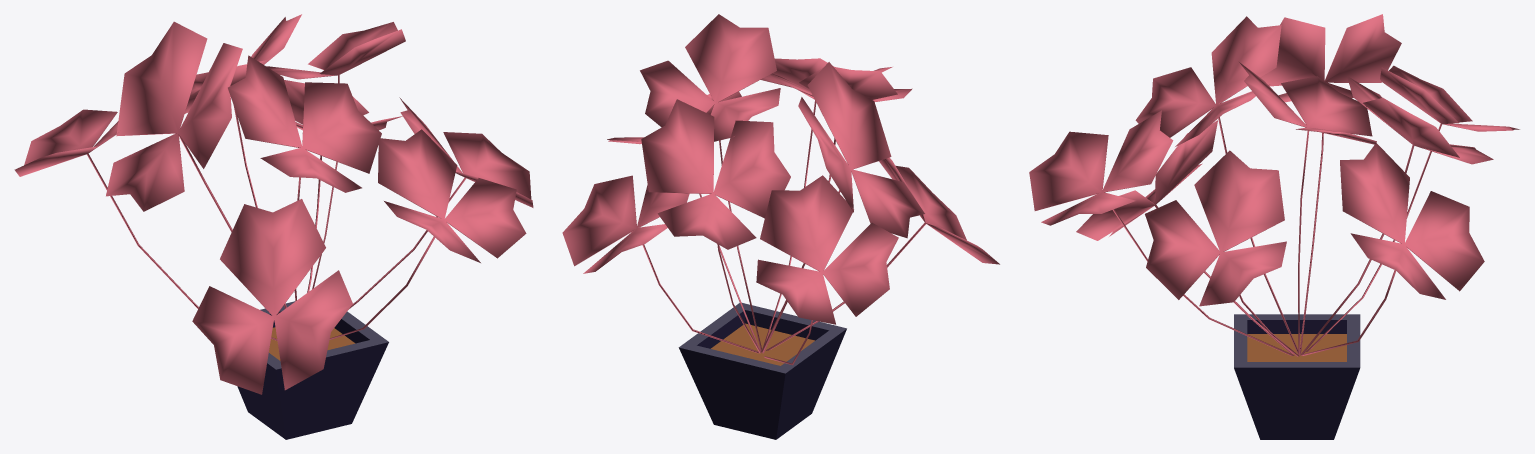
File: pfp11.fbx
The picture shows the model from 3 angles, left to right: view 1: azimuth 30°, elevation 25°; view 2: azimuth 150°, elevation 25°; view 3: azimuth 270°, elevation 25°; orthographic projection. The views are drawn at different scales.
Visible parts, largest first — view 1: pfp11; view 2: pfp11; view 3: pfp11.
Part boxes in pixels (<box>): pfp11: <box>14,14,533,439</box>; pfp11: <box>562,14,999,439</box>; pfp11: <box>1029,14,1519,439</box>.
Bounding box in the file's own units: 72.42 × 66.44 × 78.21.
